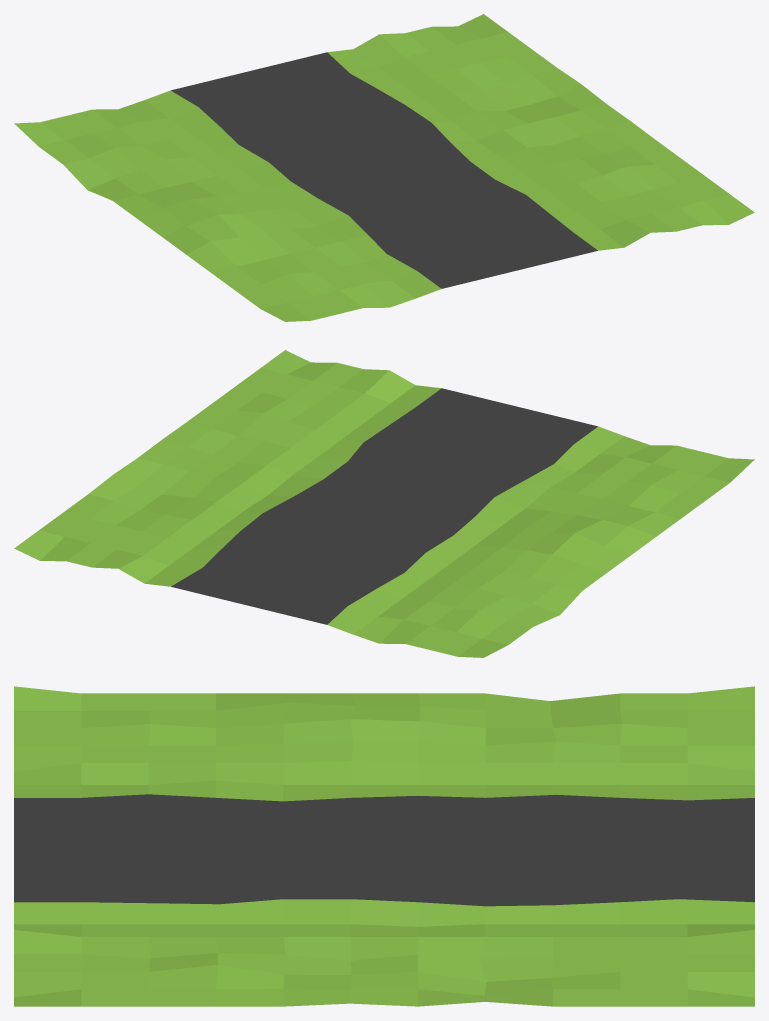
Rendered from Road_1.fbx.
3 renders of one model, top to bottom at view 1: azimuth 30°, elevation 25°; view 2: azimuth 150°, elevation 25°; view 3: azimuth 270°, elevation 25°, orthographic. The views are drawn at different scales.
Visible parts, largest first — view 1: Road_1; view 2: Road_1; view 3: Road_1.
Part boxes in pixels (bbox=[...]): Road_1: bbox=[14, 14, 754, 321]; Road_1: bbox=[14, 350, 754, 657]; Road_1: bbox=[14, 686, 754, 1006].
Bounding box in the file's own units: 30.1 × 0.9114 × 30.
